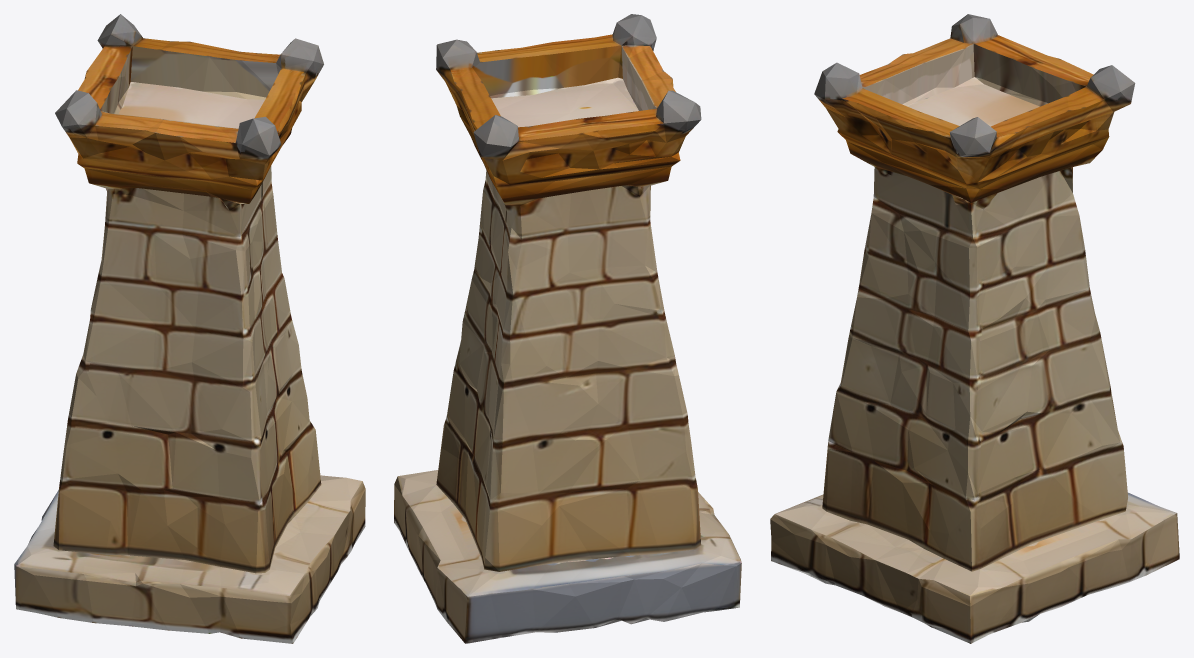
The model's file is lvl_3_archer_tower.glb.
3 views of the same model, side by side, from view 1: azimuth 30°, elevation 25°; view 2: azimuth 150°, elevation 25°; view 3: azimuth 270°, elevation 25° (orthographic).
Parts seen in each view (by area): view 1: tmpz509c03i.ply; view 2: tmpz509c03i.ply; view 3: tmpz509c03i.ply.
Part boxes in pixels (x1,y1,x2,y2): tmpz509c03i.ply: [14, 14, 365, 643]; tmpz509c03i.ply: [394, 14, 741, 643]; tmpz509c03i.ply: [770, 14, 1179, 643].
Size of the model in its own units: 1.42 by 1.97 by 1.47.
1 material, 1 textured.
